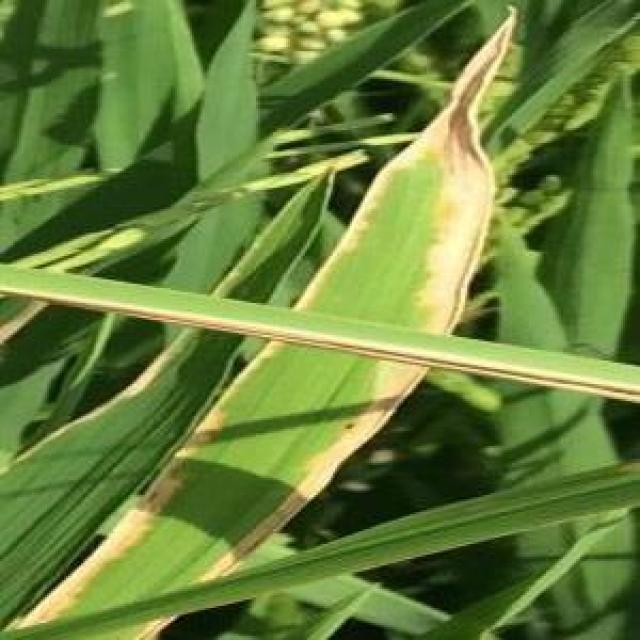Bacterial_Blight: (19, 9, 518, 632), (138, 6, 520, 640), (1, 279, 640, 405)
